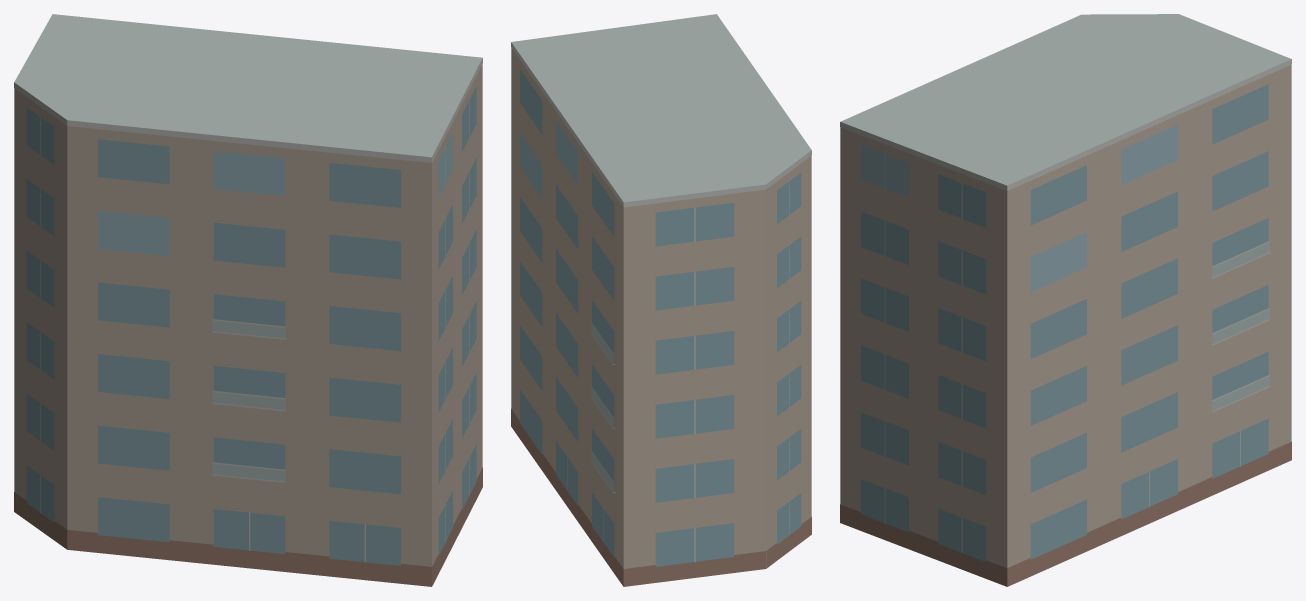
File: survey-upis-33026401.glb
3 renders of one model, left to right at view 1: azimuth 30°, elevation 25°; view 2: azimuth 150°, elevation 25°; view 3: azimuth 270°, elevation 25°, orthographic. The views are drawn at different scales.
Parts seen in each view (by area): view 1: survey-upis-33026401.tmp; view 2: survey-upis-33026401.tmp; view 3: survey-upis-33026401.tmp.
Part boxes in pixels (x1=…): survey-upis-33026401.tmp: x1=14, y1=14, x2=482, y2=586; survey-upis-33026401.tmp: x1=511, y1=14, x2=811, y2=586; survey-upis-33026401.tmp: x1=840, y1=14, x2=1291, y2=586.
Bounding box in the file's own units: 16.81 × 18.3 × 18.67.
